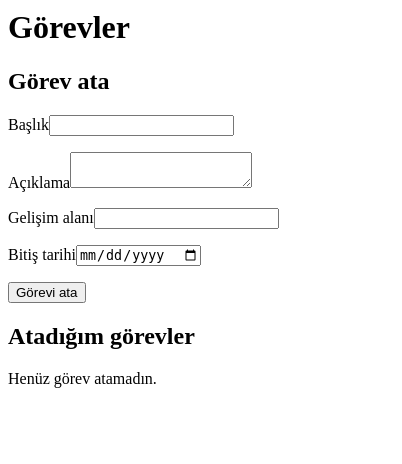
it: AssignedTasksPage › adds a newly assigned task to the list
The image size is (402, 464).
Expected: the text "Henüz görev atamadın." is shown, [8,370,157,387]
Type "Draw a family picture" into the field labelled "Başlık" at (141, 125), box [49,115,234,136]
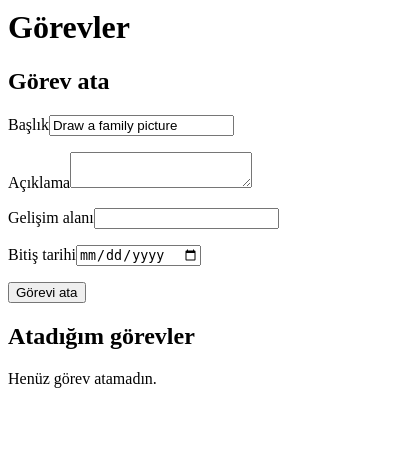
Type "Motor" into the field labelled "Gelişim alanı" at (186, 218), box [94,208,279,229]
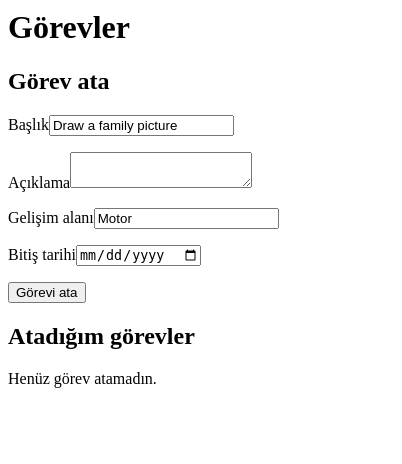
Type "2026-11-27" into the date field labelled "Bitiş tarihi" at (139, 255), box [76,245,201,266]
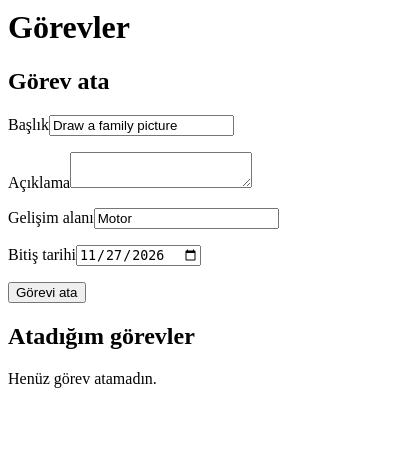
Click the button "Görevi ata" at (47, 293), box [8,282,86,303]
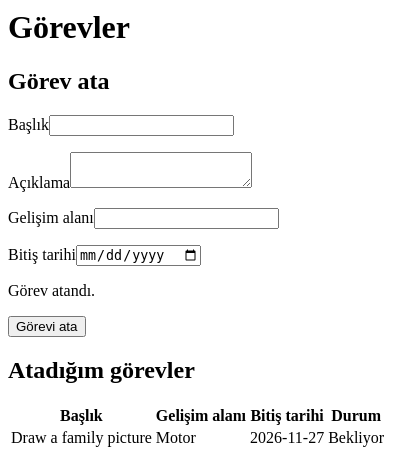
Result: the text "Bekliyor" is shown at [327,428,385,448]
Result: the text "Henüz görev atamadın." is gone
